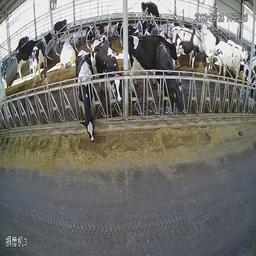cow: (157, 42, 190, 118), (91, 41, 123, 105), (75, 47, 95, 143), (209, 41, 241, 82), (174, 28, 207, 67), (33, 27, 53, 86), (16, 38, 32, 81), (61, 30, 77, 67), (143, 1, 164, 22), (54, 15, 68, 46), (82, 21, 98, 42), (111, 18, 125, 40)
